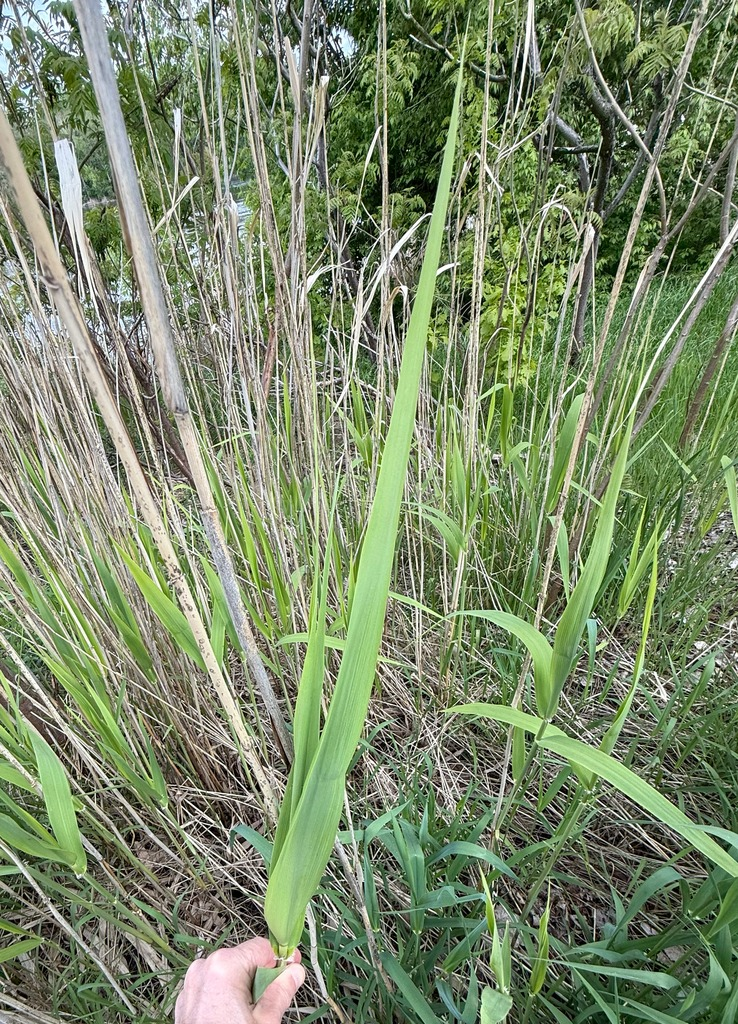common reed: (3, 5, 734, 1016)
